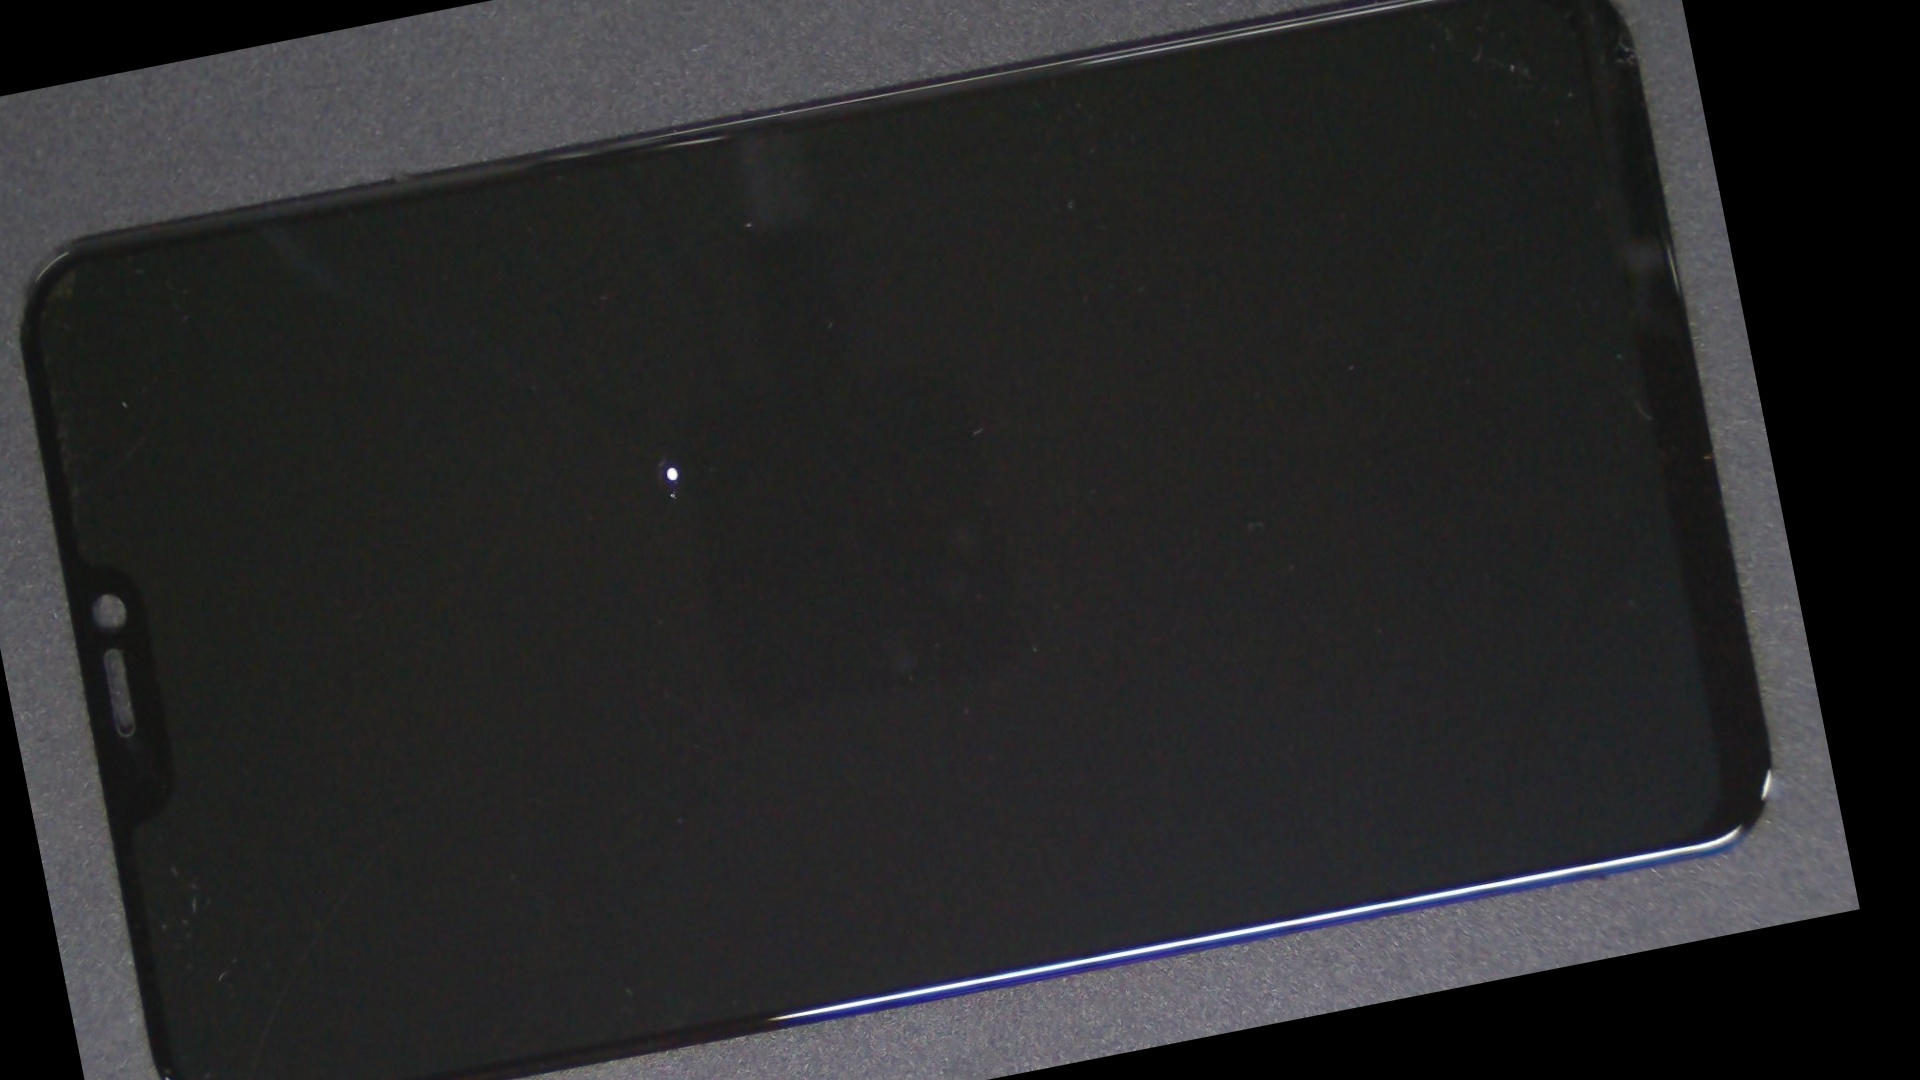oil: (284, 157, 1056, 771)
